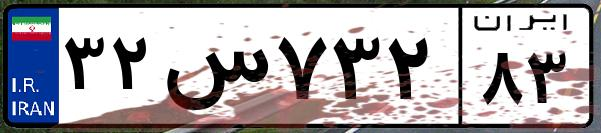2: (385, 28, 445, 110), (110, 28, 158, 98)
3: (330, 28, 385, 110), (57, 26, 110, 100), (525, 38, 570, 115)
7: (270, 28, 330, 110)
8: (475, 38, 525, 113)
س: (158, 20, 270, 120)
